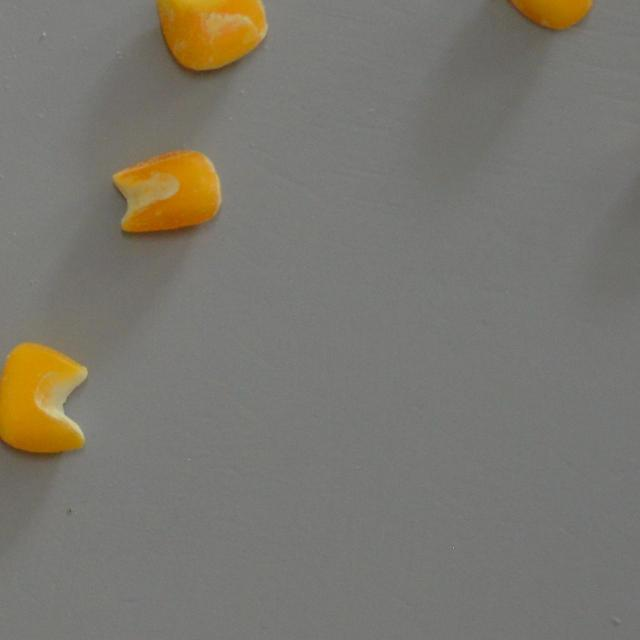no_canjicado: (0, 341, 88, 452)
pelicula: (112, 149, 220, 232), (156, 0, 268, 74), (496, 0, 603, 30)
